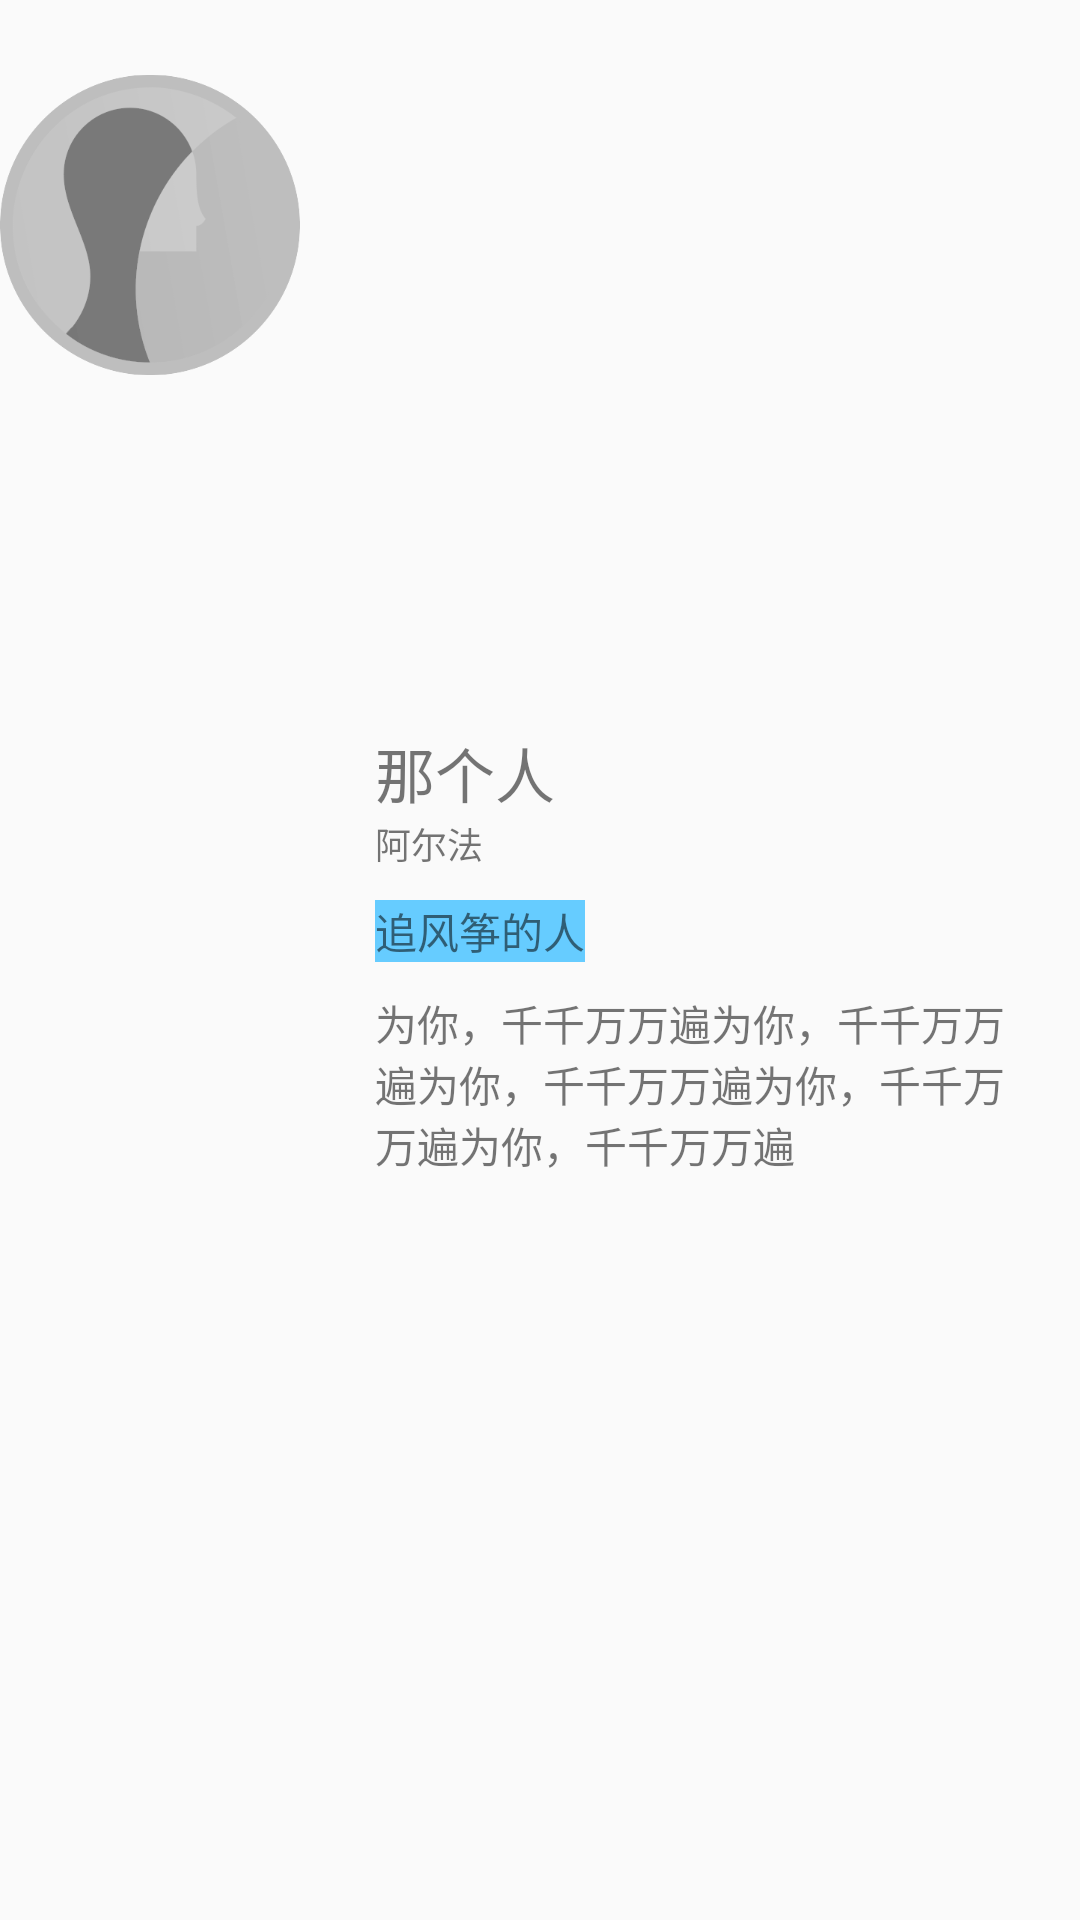

Icons on this 1080x1920 Android screen, each with its box as (x1, y1, x2, y2):
ladies: (0, 75, 300, 375)
